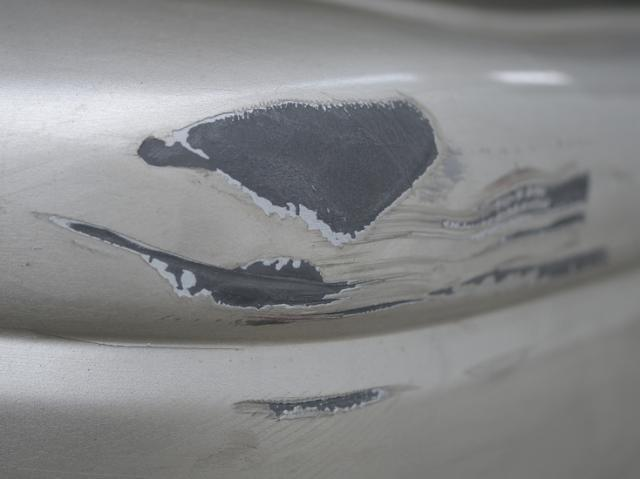Bumper: (25, 76, 627, 443)
